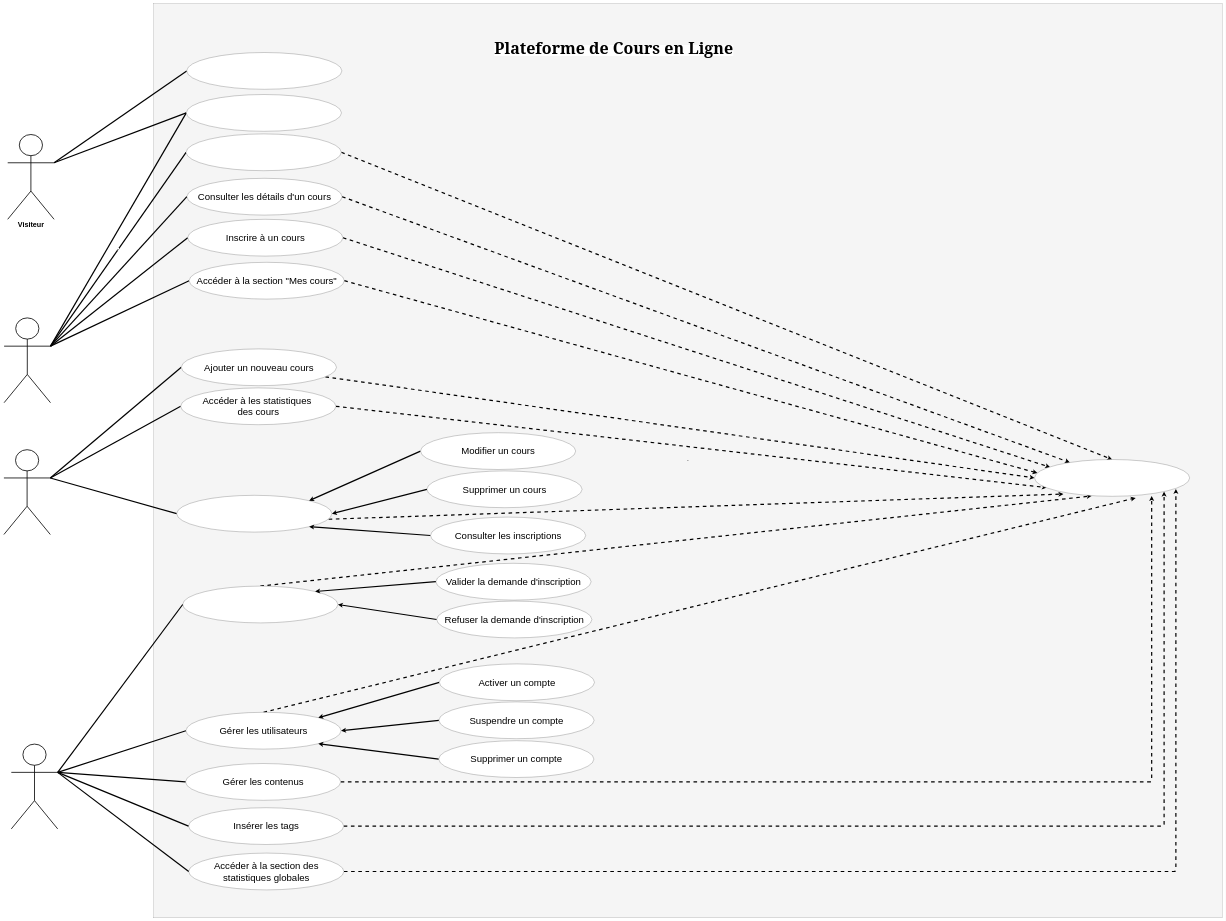
Image size: 1226x921. Some labels were removed from this diagram. Each missing label, with the centre of its shape:
"Administrateur" belongs at (34,786).
"Authentification" belongs at (1112,477).
"Enseignant" belongs at (27,492).
"Gérer les comptes enseignants" belongs at (260,604).
"Gérer les cours" belongs at (254,513).
"Inscrire" belongs at (264,70).
"Rechercher un cours" belongs at (264,112).
"Visualiser les catalogue des cours" belongs at (263,152).
"Étudiant" belongs at (27,360).
